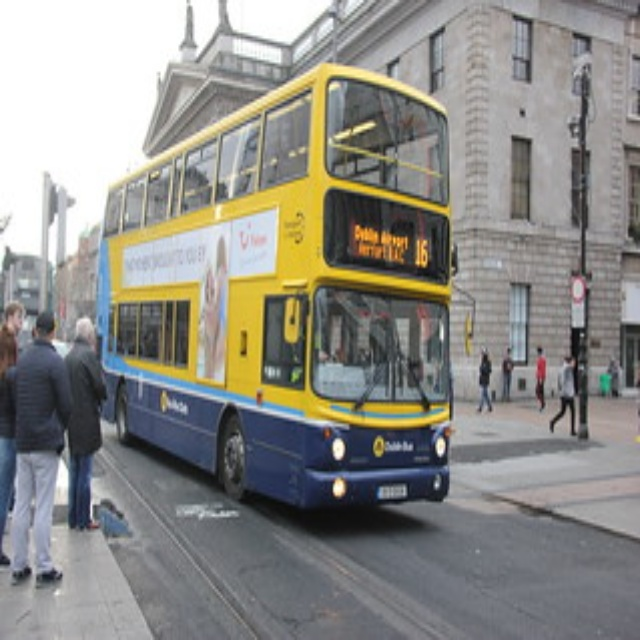Bus: (94, 63, 449, 517)
